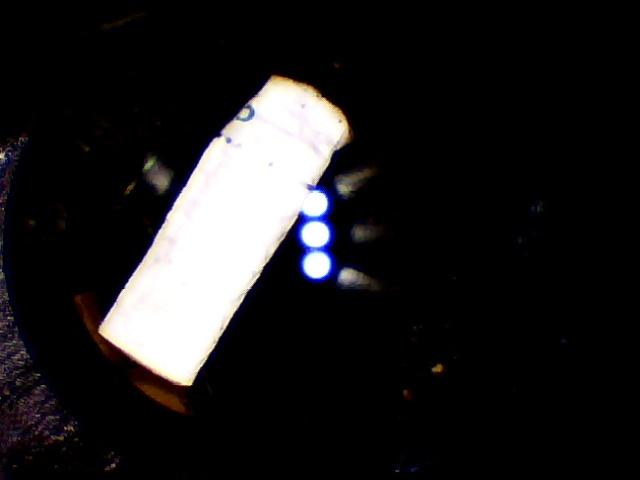megot: (71, 72, 361, 395)
